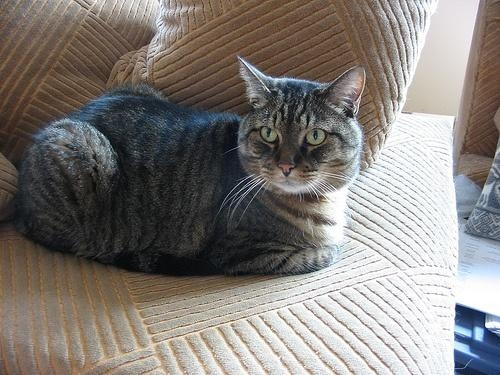cat: (16, 56, 368, 276)
